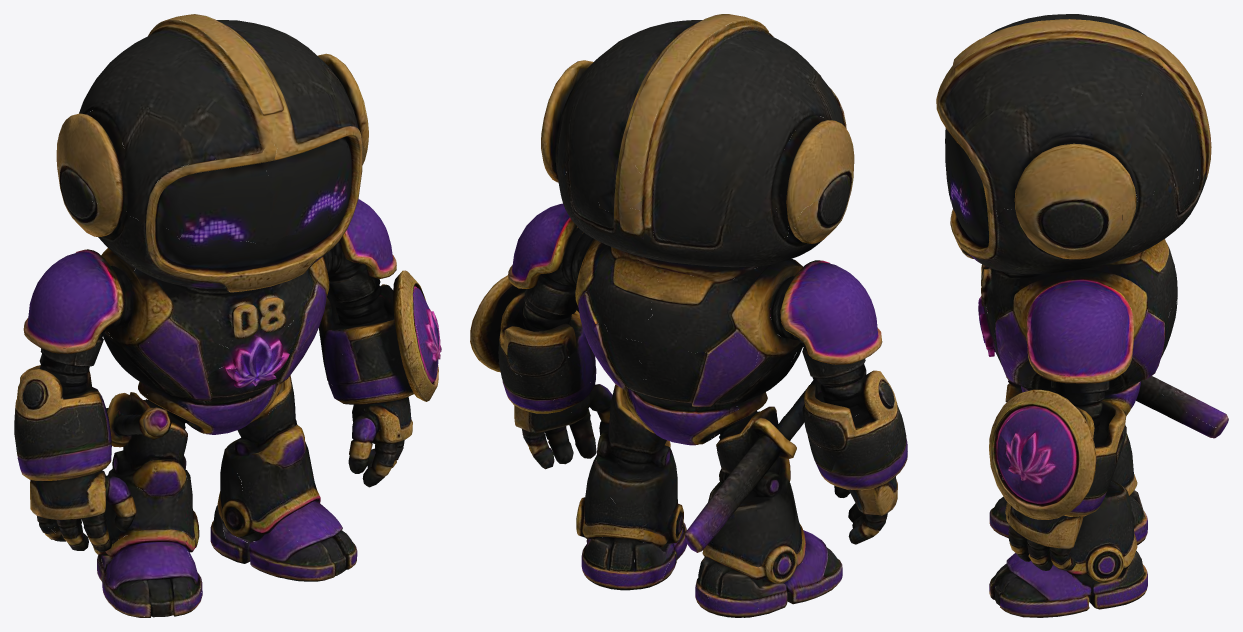
The model's file is vltrn8_rig.glb.
The picture shows the model from 3 angles, left to right: view 1: azimuth 30°, elevation 25°; view 2: azimuth 150°, elevation 25°; view 3: azimuth 270°, elevation 25°; orthographic projection.
Parts seen in each view (by area): view 1: QM85_Body, QM85_ArmR, QM85_LegL, QM85_LegR, QM85_ArmL; view 2: QM85_Body, QM85_ArmR, QM85_LegR, QM85_LegL, QM85_ArmL; view 3: QM85_Body, QM85_ArmL, QM85_LegL, QM85_LegR.
Part boxes in pixels (box(x1,y1,x2,y2)): QM85_Body: box(56, 14, 382, 527); QM85_ArmR: box(14, 250, 123, 552); QM85_LegL: box(210, 363, 383, 581); QM85_LegR: box(93, 407, 226, 617); QM85_ArmL: box(325, 199, 441, 482); QM85_Body: box(536, 14, 854, 541); QM85_ArmR: box(784, 260, 907, 544); QM85_LegR: box(677, 417, 849, 617); QM85_LegL: box(540, 367, 687, 590); QM85_ArmL: box(470, 203, 587, 469); QM85_Body: box(936, 14, 1211, 412); QM85_ArmL: box(989, 282, 1134, 570); QM85_LegL: box(989, 411, 1147, 617); QM85_LegR: box(989, 376, 1228, 544).
Bounding box in the file's own units: 0.8031 × 1 × 0.4912.
Materials: 1 (1 with a texture image).
